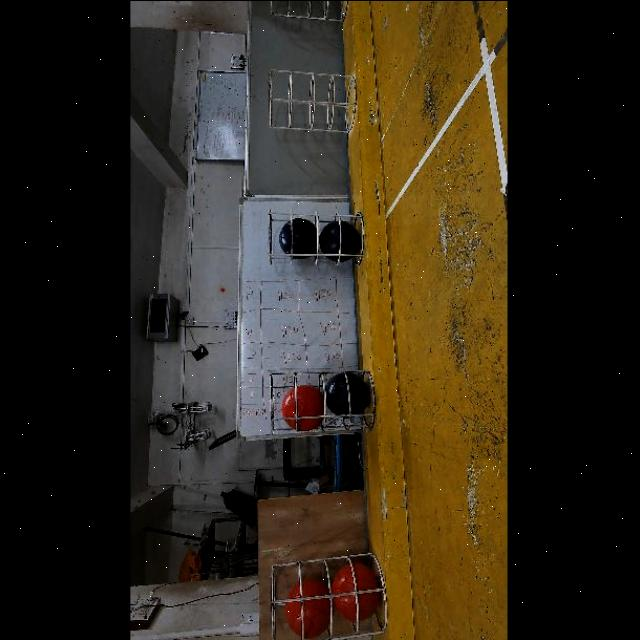P: (326, 371, 370, 418), (319, 220, 361, 262), (279, 217, 318, 258)
R: (334, 562, 381, 621), (285, 578, 331, 638), (281, 384, 324, 431)
S: (266, 548, 384, 640), (267, 366, 379, 434), (258, 204, 368, 268), (266, 70, 354, 140), (266, 1, 358, 23)
